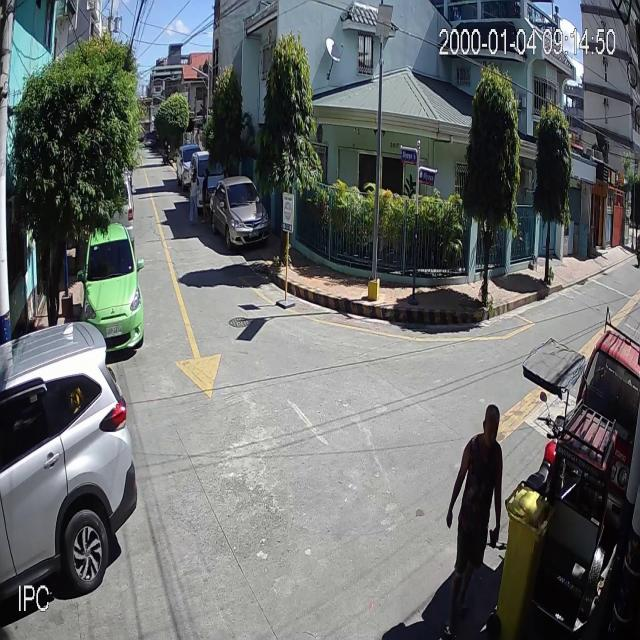walking: (446, 399, 504, 636), (188, 167, 201, 227), (201, 167, 211, 225)
